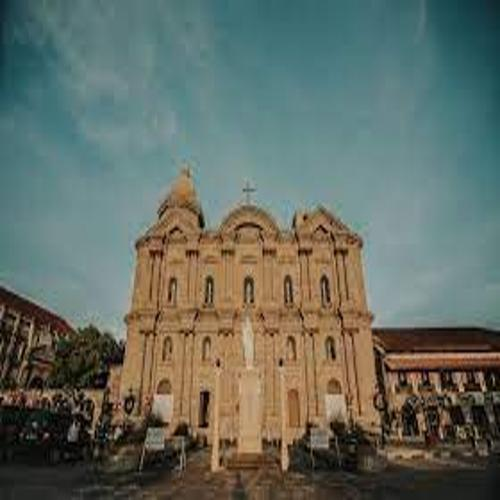Taal Basilica Church: (108, 141, 392, 473)
